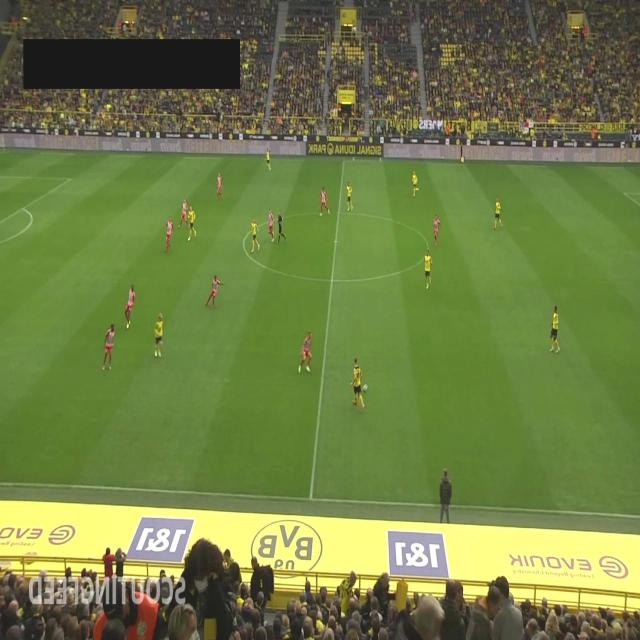player: (350, 357, 365, 412), (204, 274, 223, 308), (298, 331, 312, 374), (102, 324, 115, 370), (548, 306, 560, 354), (124, 284, 136, 330), (178, 199, 190, 231), (164, 216, 174, 252), (424, 249, 433, 289), (154, 313, 162, 357), (187, 206, 197, 241), (493, 196, 503, 230), (251, 218, 260, 254), (320, 186, 330, 216), (433, 214, 441, 246), (216, 172, 224, 200), (346, 181, 353, 212), (268, 208, 274, 241), (412, 170, 418, 198), (266, 146, 272, 170)
referee: (278, 209, 286, 243), (458, 140, 466, 164)
